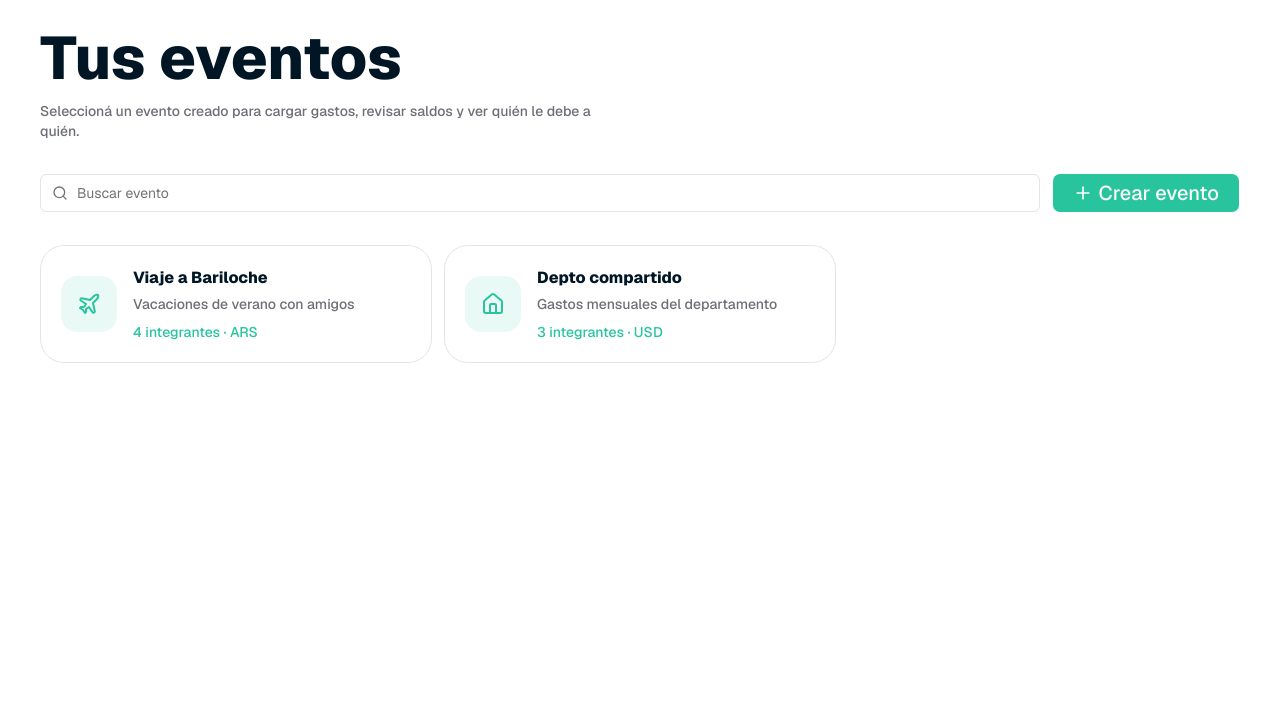
it: EventsPage › no permite agregar al usuario actual como participante otra vez
Expected: the heading "Viaje a Bariloche" is shown, [133,267,268,288]
Click the button "Crear evento".
click(1146, 193)  # box [1052,173,1240,213]
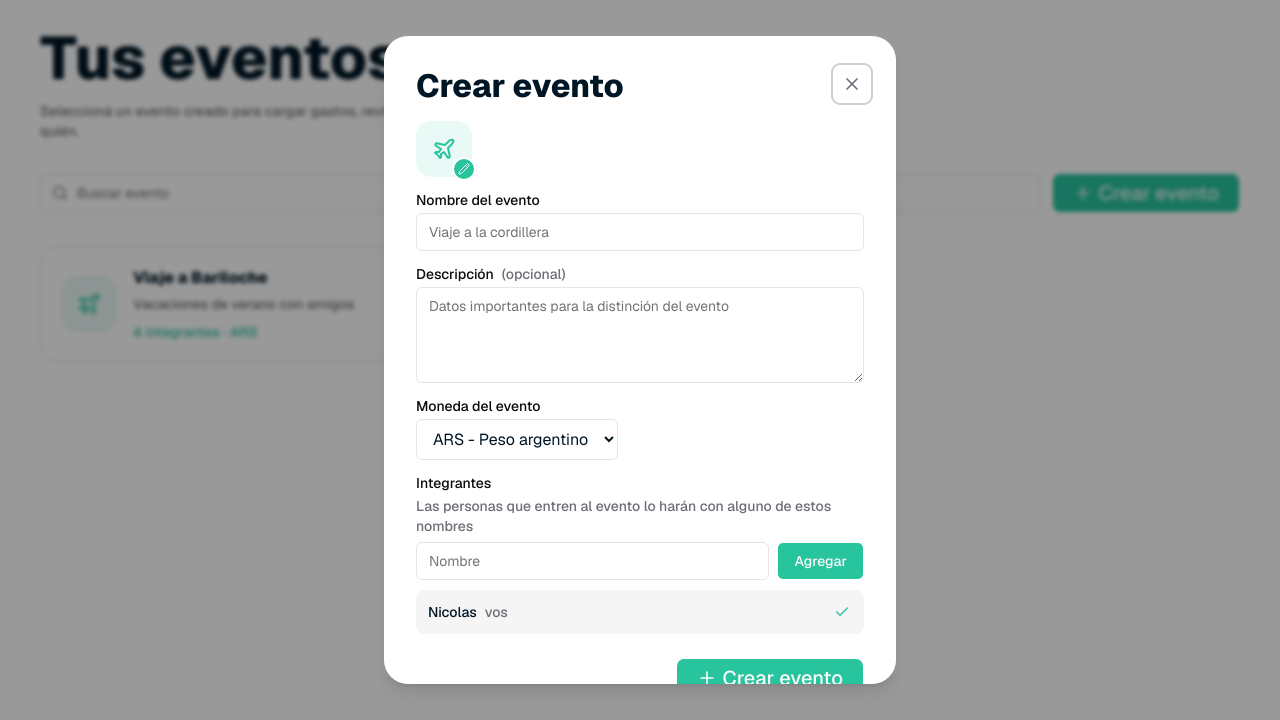
Type "nIcOlAs" into the field labelled "Integrantes".
click(593, 561); type("nIcOlAs")  # box [416,542,769,580]
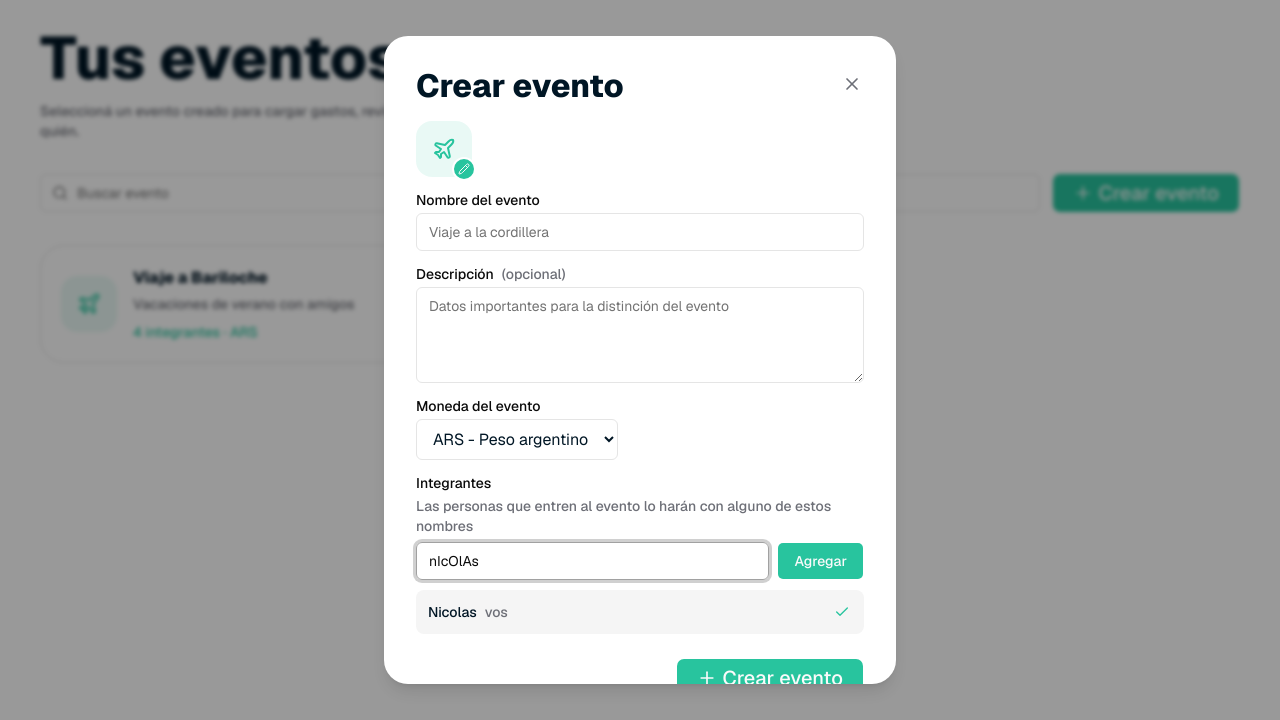
Click the button "Agregar".
click(821, 561)  # box [777,542,864,580]
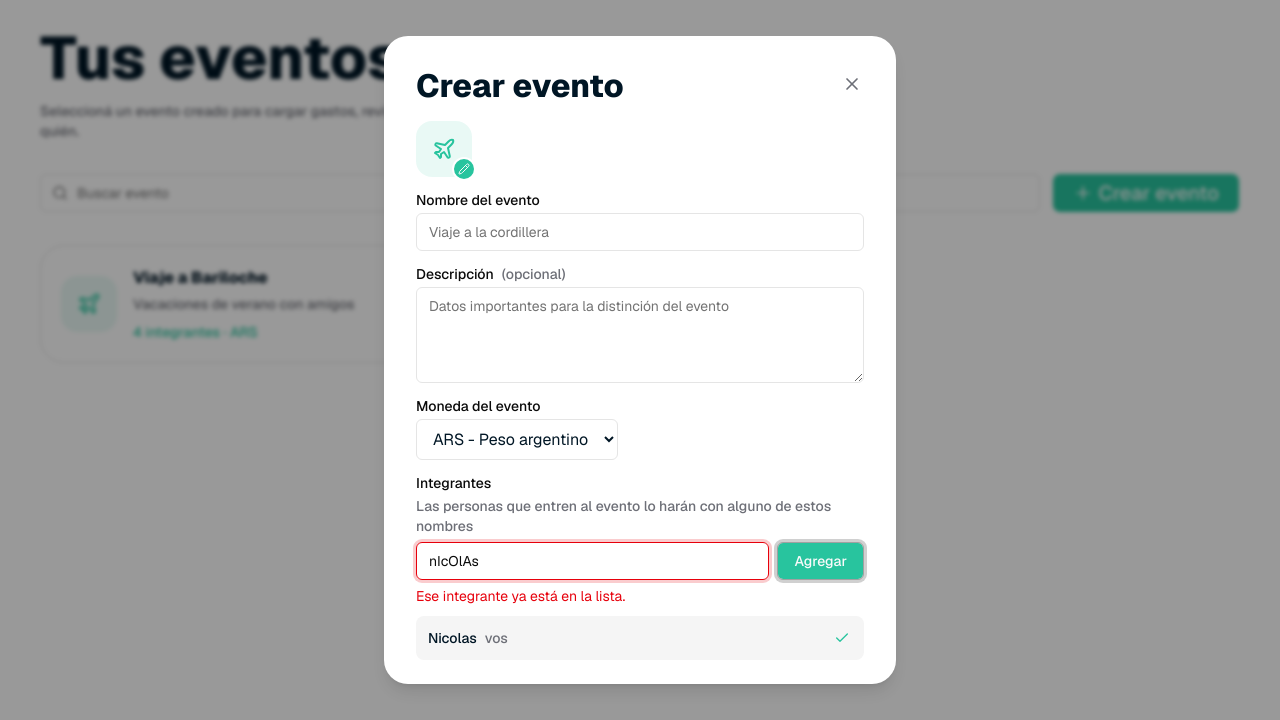
Result: the text "Ese integrante ya está en la lista." is shown at [416,587,625,605]
